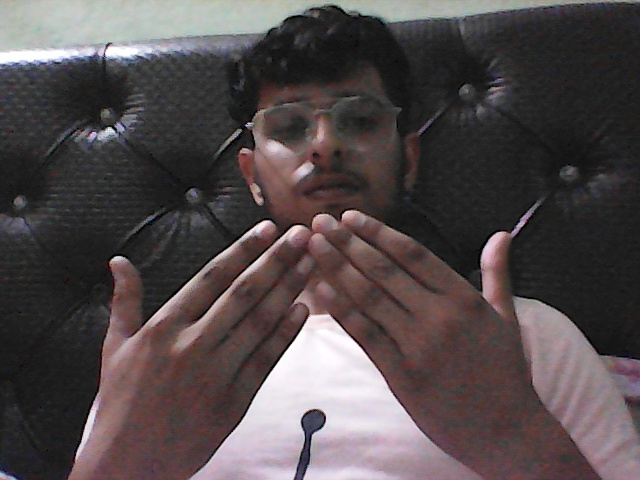thankyou: (24, 214, 579, 465)
